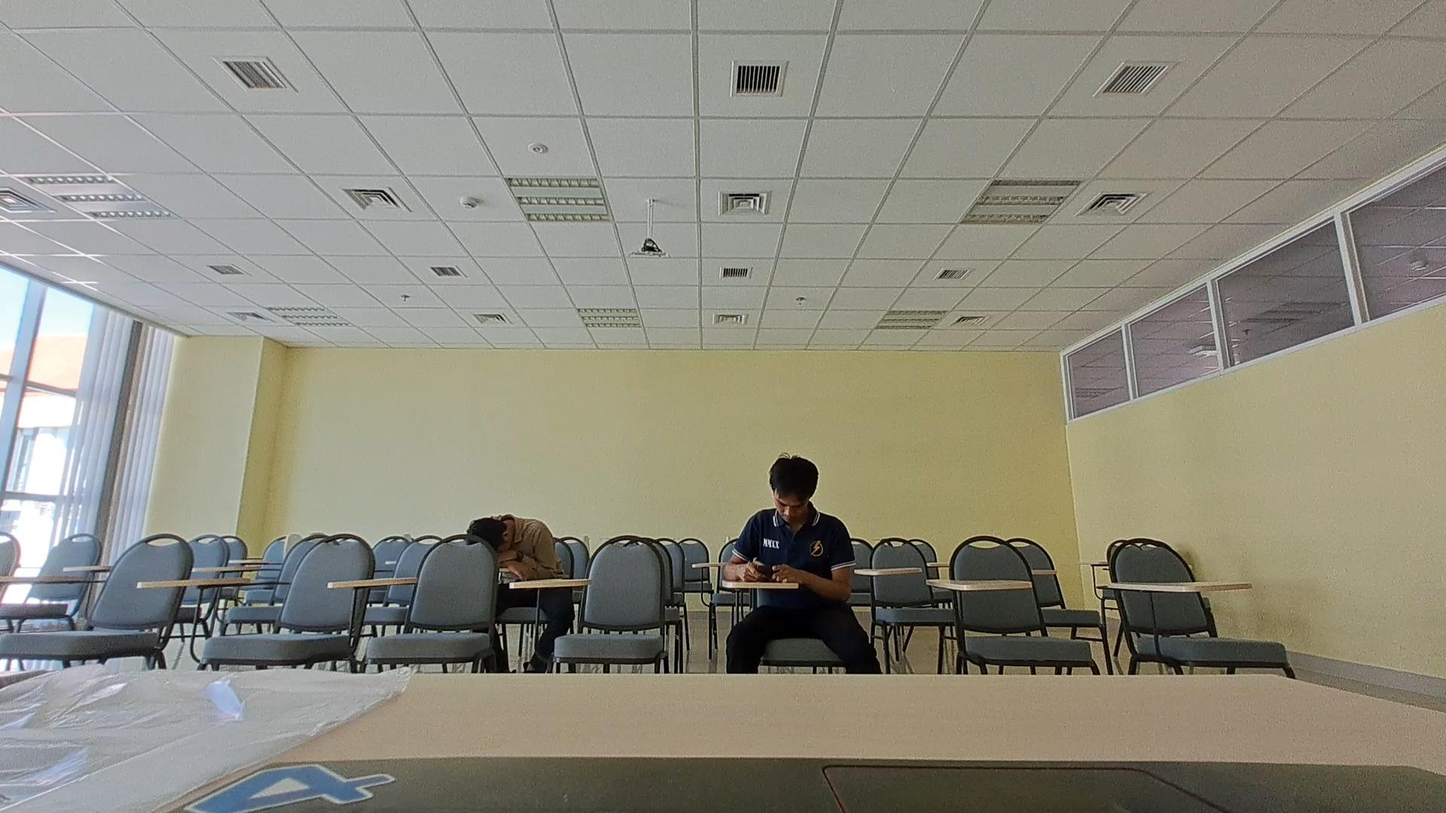sleep: (450, 511, 558, 578)
study: (713, 452, 854, 587)
